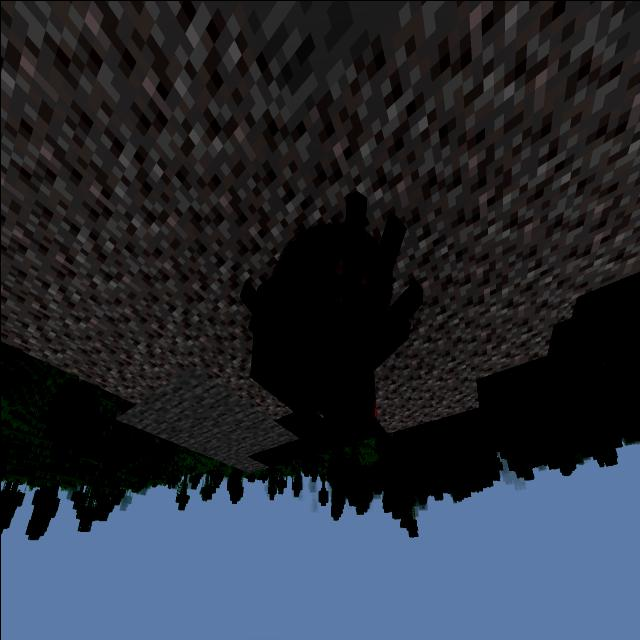Spider: (230, 175, 424, 451)
